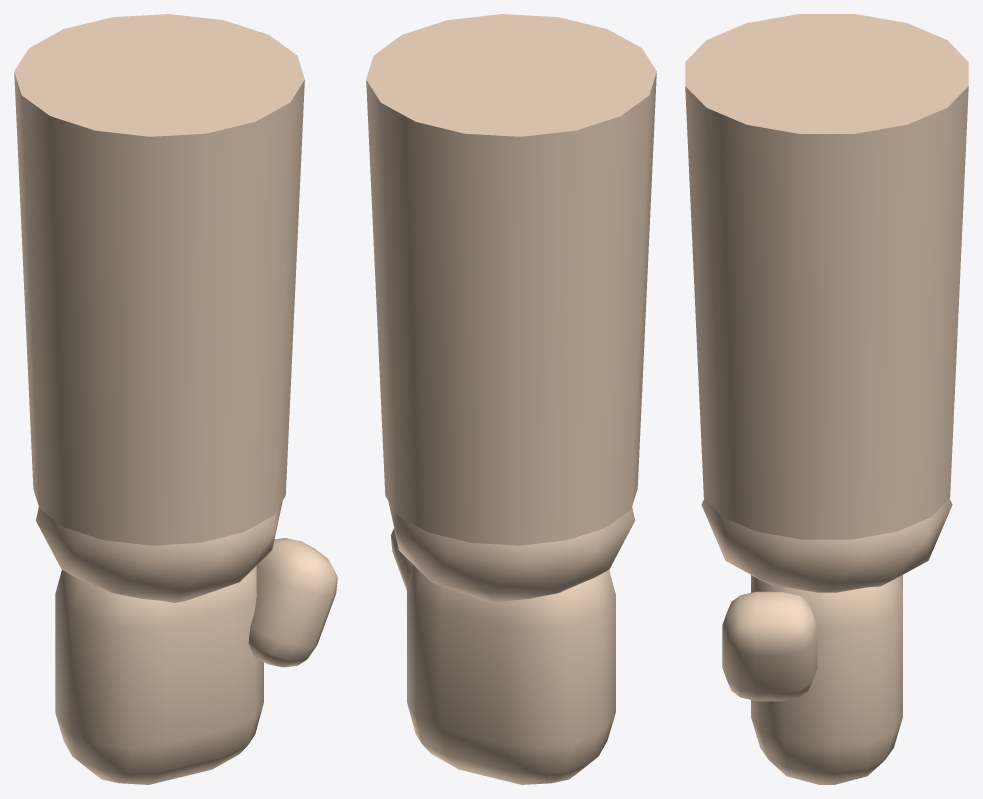
The model's file is CharForearm.fbx.
3 views of the same model, side by side, from view 1: azimuth 30°, elevation 25°; view 2: azimuth 150°, elevation 25°; view 3: azimuth 270°, elevation 25° (orthographic).
Parts seen in each view (by area): view 1: CharForearm; view 2: CharForearm; view 3: CharForearm.
Boxes of the visible parts, x1,y1,x2,y2 form: CharForearm: (14,14,337,784); CharForearm: (366,14,656,784); CharForearm: (685,14,968,784).
Size of the model in its own units: 0.1579 by 0.4 by 0.1491.
